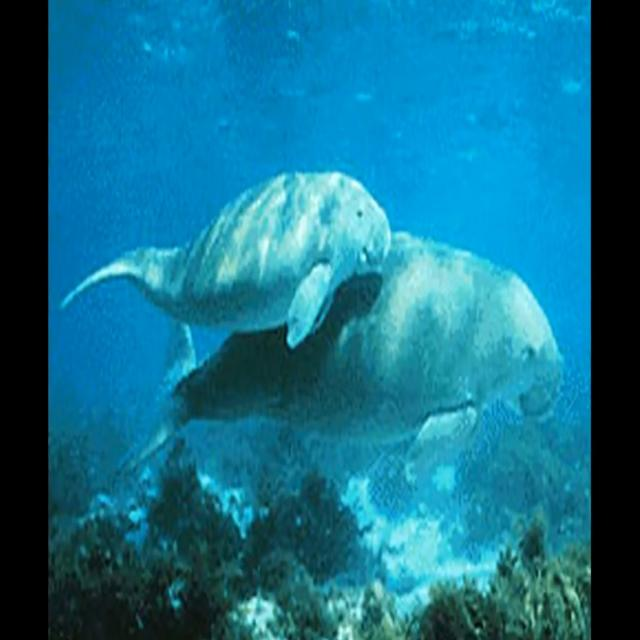Dugong -Endangered-: (126, 236, 562, 460), (60, 172, 394, 346)
